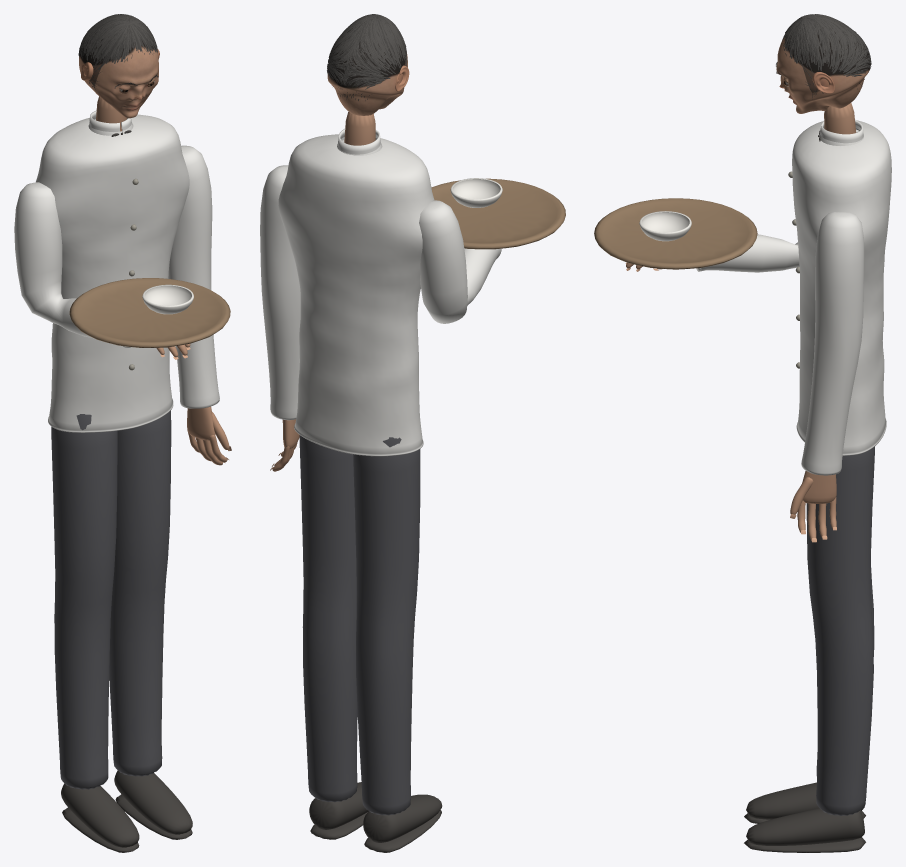
The model's file is waiter.glb.
3 renders of one model, left to right at view 1: azimuth 30°, elevation 25°; view 2: azimuth 150°, elevation 25°; view 3: azimuth 270°, elevation 25°, orthographic.
Visible parts, largest first — view 1: Torso, LegL, LegR, TrayDisc, SleeveR, SleeveL, Head, FootL, FootR, HairCards, HandR, Bowl (+2 smaller); view 2: Torso, LegL, LegR, SleeveR, SleeveL, TrayDisc, HairCards, FootL, Head, FootR, Bowl, Neck (+2 smaller); view 3: LegR, Torso, SleeveR, TrayDisc, FootR, HairCards, Head, HandR, SleeveL, FootL, Bowl, Neck (+1 smaller).
Boxes of the visible parts, x1,y1,x2,y2 form: Torso: [36, 114, 189, 432]; LegL: [51, 414, 117, 789]; LegR: [109, 410, 171, 776]; TrayDisc: [69, 278, 230, 347]; SleeveR: [168, 145, 219, 408]; SleeveL: [14, 182, 130, 347]; Head: [79, 32, 158, 118]; FootL: [61, 783, 139, 852]; FootR: [114, 770, 192, 839]; HairCards: [78, 14, 158, 89]; HandR: [187, 406, 229, 465]; Bowl: [142, 284, 193, 314]; Torso: [278, 134, 434, 456]; LegL: [353, 437, 420, 815]; LegR: [299, 435, 357, 802]; SleeveR: [260, 165, 300, 420]; SleeveL: [419, 200, 501, 323]; TrayDisc: [431, 178, 565, 249]; HairCards: [327, 14, 407, 100]; FootL: [363, 794, 442, 852]; Head: [327, 28, 407, 115]; FootR: [309, 782, 368, 839]; Bowl: [450, 178, 502, 207]; Neck: [344, 111, 375, 145]; LegR: [806, 446, 874, 815]; Torso: [792, 120, 891, 455]; SleeveR: [801, 212, 864, 475]; TrayDisc: [594, 198, 757, 269]; FootR: [744, 808, 865, 852]; HairCards: [781, 14, 871, 99]; Head: [776, 28, 870, 113]; HandR: [790, 471, 836, 540]; SleeveL: [696, 234, 799, 272]; FootL: [744, 782, 865, 823]; Bowl: [639, 211, 691, 241]; Neck: [824, 103, 856, 134].
Size of the model in its own units: 0.4867 by 1.76 by 0.5822.
16 materials, 2 textured.
